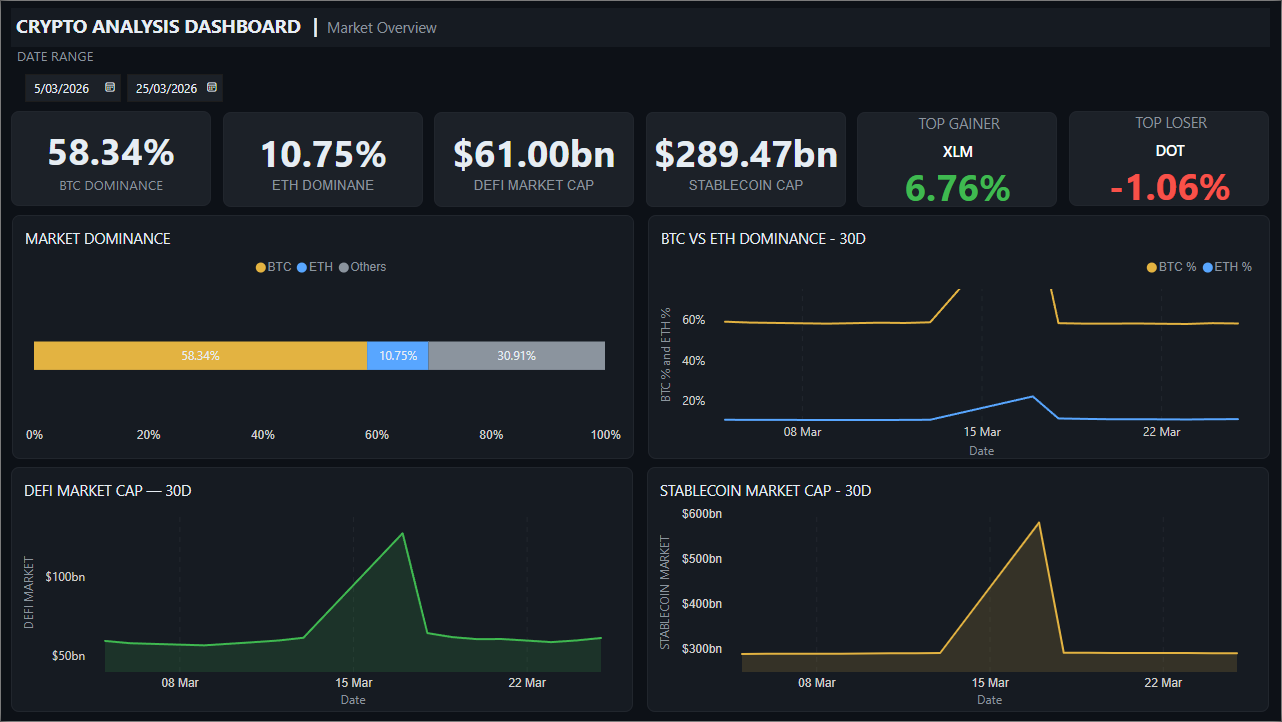

The page's visual inventory and layout, read from the dashboard file:
{"tool":"powerbi","page":{"name":"Market Overview","canvas":[1280,720],"ordinal":0},"visuals":[{"type":"slicer","title":"DATE RANGE","fields":{"Values":["dim_date.Date"]},"box":[11,46,1258,63],"z":0},{"type":"card","fields":{"Values":["_Measures.Latest BTC Dominance"]},"box":[10,110,200,95],"z":1000},{"type":"hundredPercentStackedBarChart","title":"MARKET DOMINANCE","fields":{"Y":["_Measures.BTC Dominance Chart","_Measures.ETH Dominance Chart","_Measures.Others Dominance1"]},"box":[11,214,622,244],"z":2000},{"type":"card","fields":{"Values":["_Measures.Latest ETH Dominance"]},"box":[221.6,111.3,200,94.3],"z":3000},{"type":"card","fields":{"Values":["_Measures.Latest DeFi Market Cap"]},"box":[433.2,111.3,200,94.3],"z":4000},{"type":"card","fields":{"Values":["_Measures.Latest Stablecoin Cap"]},"box":[644.8,111.3,200,94.3],"z":5000},{"type":"lineChart","title":"BTC VS ETH DOMINANCE - 30D","fields":{"Category":["dim_date.Date"],"Y":["Sum(fact_global_market.global_btc_dominance)","Sum(fact_global_market.global_eth_dominance)"]},"box":[647,214,622,244],"z":6000},{"type":"areaChart","title":"DEFI MARKET CAP — 30D","fields":{"Category":["dim_date.Date"],"Y":["Sum(fact_global_market.global_defi_market_cap)"]},"box":[10,466,622,245],"z":7000},{"type":"areaChart","title":"STABLECOIN MARKET CAP - 30D","fields":{"Y":["Sum(fact_global_market.global_stablecoin_market_cap)"],"Category":["dim_date.Date"]},"box":[646,466,622,245],"z":8000},{"type":"cardVisual","title":"TOP GAINER","fields":{"Data":["_Measures.Top Performer Symbol","_Measures.Top Performer 24H"]},"box":[856.4,111.3,200,94.3],"z":9000},{"type":"cardVisual","title":"TOP LOSER","fields":{"Data":["_Measures.Worst Performer Symbol","_Measures.Worst Performer 24H"]},"box":[1068,110,200,95],"z":10000},{"type":"textbox","box":[10,7,1259,39],"z":11000}]}

Visuals, with their boxes in screenshot pixels (x1, y1, x2, y2), scaled from the page's 1280x720 canvas onto the 1282x722 screenshot:
"DATE RANGE" slicer: locate(11, 46, 1271, 109)
card - _Measures.Latest BTC Dominance: locate(10, 110, 210, 206)
"MARKET DOMINANCE" hundredPercentStackedBarChart: locate(11, 215, 634, 459)
card - _Measures.Latest ETH Dominance: locate(222, 112, 422, 206)
card - _Measures.Latest DeFi Market Cap: locate(434, 112, 634, 206)
card - _Measures.Latest Stablecoin Cap: locate(646, 112, 846, 206)
"BTC VS ETH DOMINANCE - 30D" lineChart: locate(648, 215, 1271, 459)
"DEFI MARKET CAP — 30D" areaChart: locate(10, 467, 633, 713)
"STABLECOIN MARKET CAP - 30D" areaChart: locate(647, 467, 1270, 713)
"TOP GAINER" cardVisual: locate(858, 112, 1058, 206)
"TOP LOSER" cardVisual: locate(1070, 110, 1270, 206)
textbox: locate(10, 7, 1271, 46)
